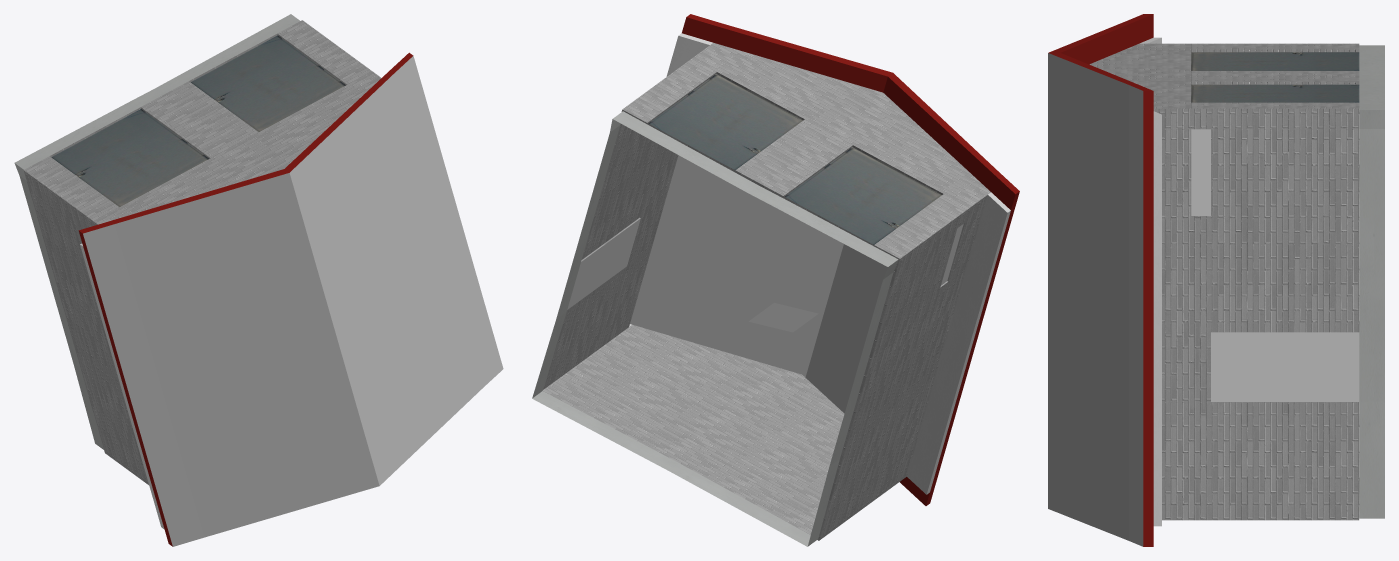
The model's file is Tpea8a_2.obj.
3 views of the same model, side by side, from view 1: azimuth 30°, elevation 25°; view 2: azimuth 150°, elevation 25°; view 3: azimuth 270°, elevation 25° (orthographic). The views are drawn at different scales.
Parts seen in each view (by area): view 1: polySurface2; view 2: polySurface2; view 3: polySurface2.
Part boxes in pixels (<box>): polySurface2: <box>14,14,503,546</box>; polySurface2: <box>532,14,1019,546</box>; polySurface2: <box>1048,14,1384,546</box>.
Size of the model in its own units: 9.41 by 9.24 by 5.43.
